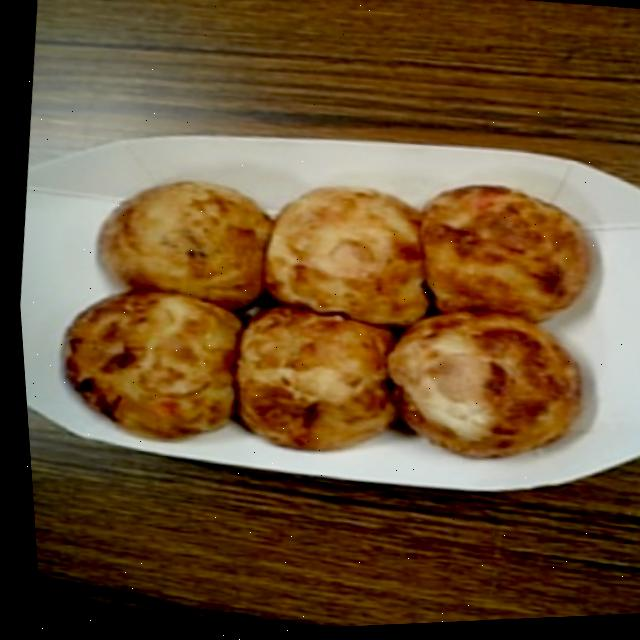炸货点心: (21, 139, 640, 498)
